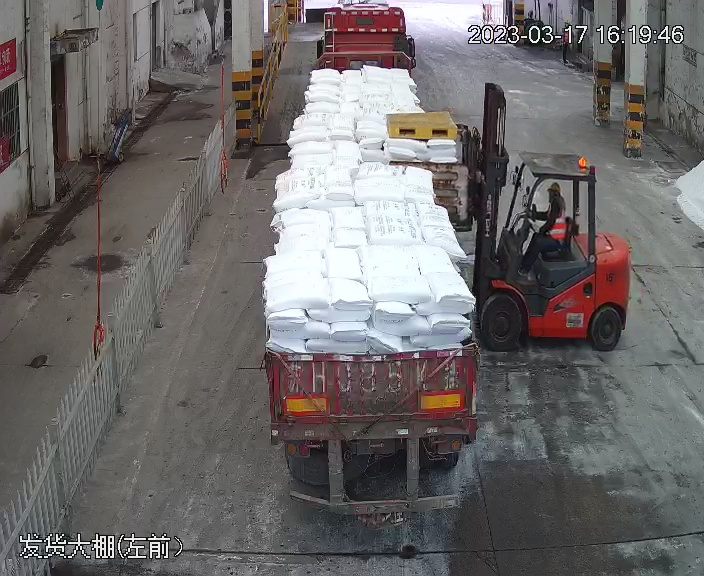head: (543, 181, 565, 213)
helmet: (547, 181, 561, 193)
people: (520, 180, 567, 271)
truck: (257, 9, 479, 492)
